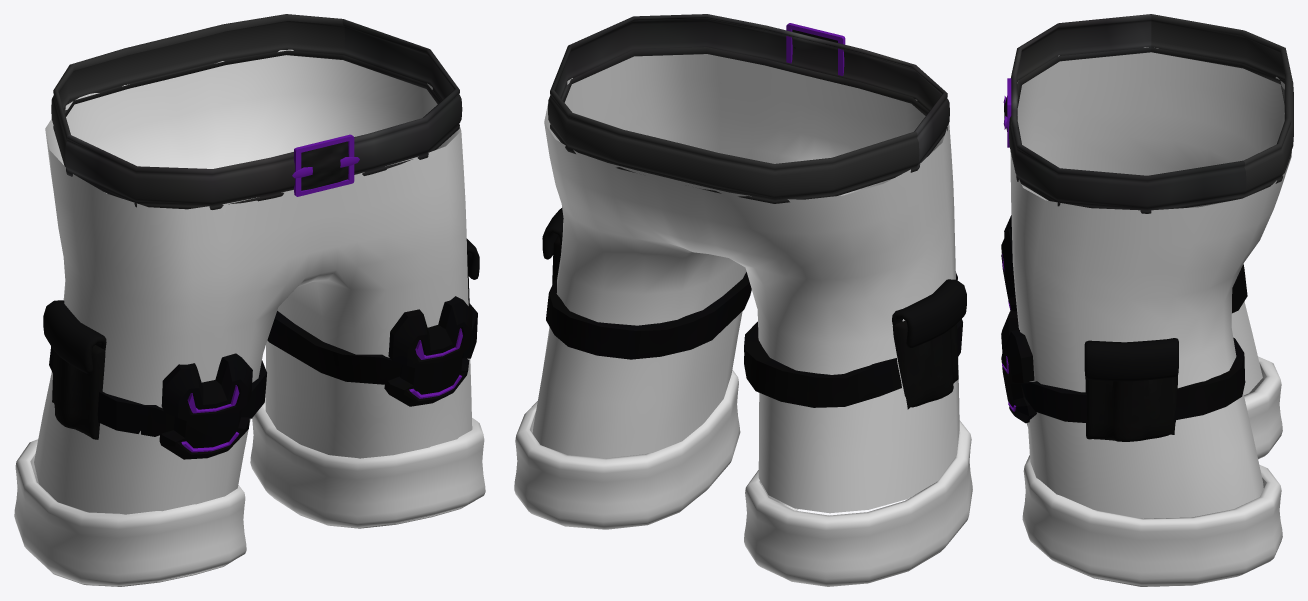
File: Cyber Moon Pants.glb
The picture shows the model from 3 angles, left to right: view 1: azimuth 30°, elevation 25°; view 2: azimuth 150°, elevation 25°; view 3: azimuth 270°, elevation 25°; orthographic projection. The views are drawn at different scales.
Visible parts, largest first — view 1: Trousers; view 2: Trousers; view 3: Trousers.
Part boxes in pixels (x1,y1,x2,y2): Trousers: [14, 14, 485, 586]; Trousers: [514, 14, 972, 586]; Trousers: [1001, 14, 1293, 586].
Size of the model in its own units: 0.4695 by 0.4769 by 0.3109.
Materials: 3 (2 with a texture image).
